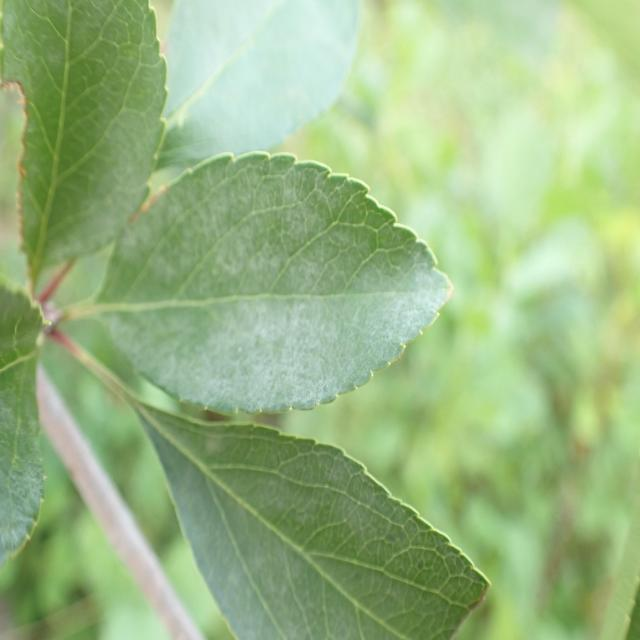Powdery_mildew: (79, 404, 498, 640), (68, 166, 464, 402)
